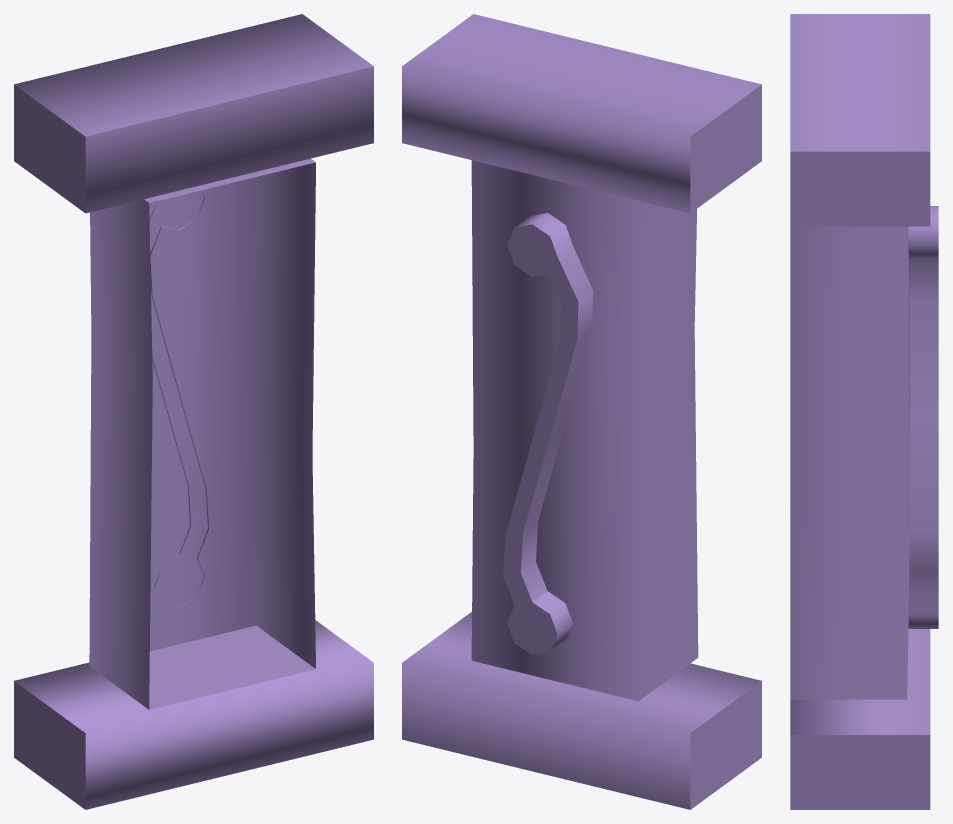
The model's file is wallDeco_c.fbx.
3 views of the same model, side by side, from view 1: azimuth 30°, elevation 25°; view 2: azimuth 150°, elevation 25°; view 3: azimuth 270°, elevation 25° (orthographic). The views are drawn at different scales.
Parts seen in each view (by area): view 1: Cube.000; view 2: Cube.000; view 3: Cube.000.
Boxes of the visible parts, left/top/right/bottom form: Cube.000: left=14, top=14, right=373, bottom=809; Cube.000: left=402, top=14, right=761, bottom=809; Cube.000: left=790, top=14, right=938, bottom=809.
Bounding box in the file's own units: 0.9251 × 2.06 × 0.4207.
